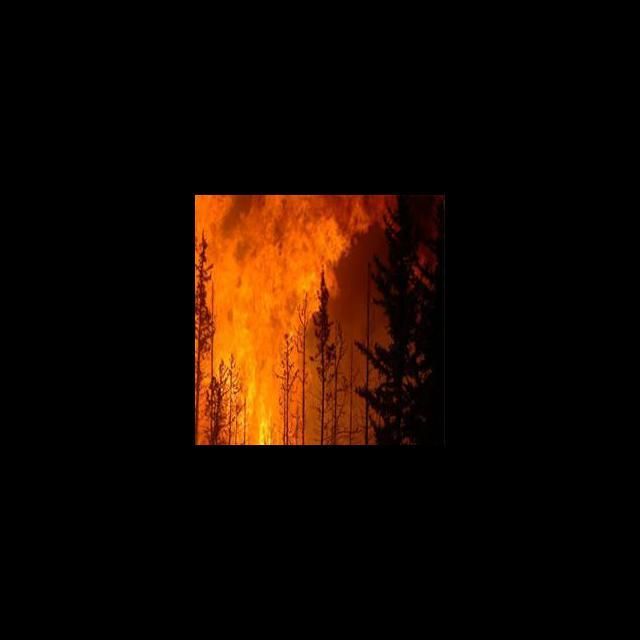Fire: (195, 195, 391, 444)
